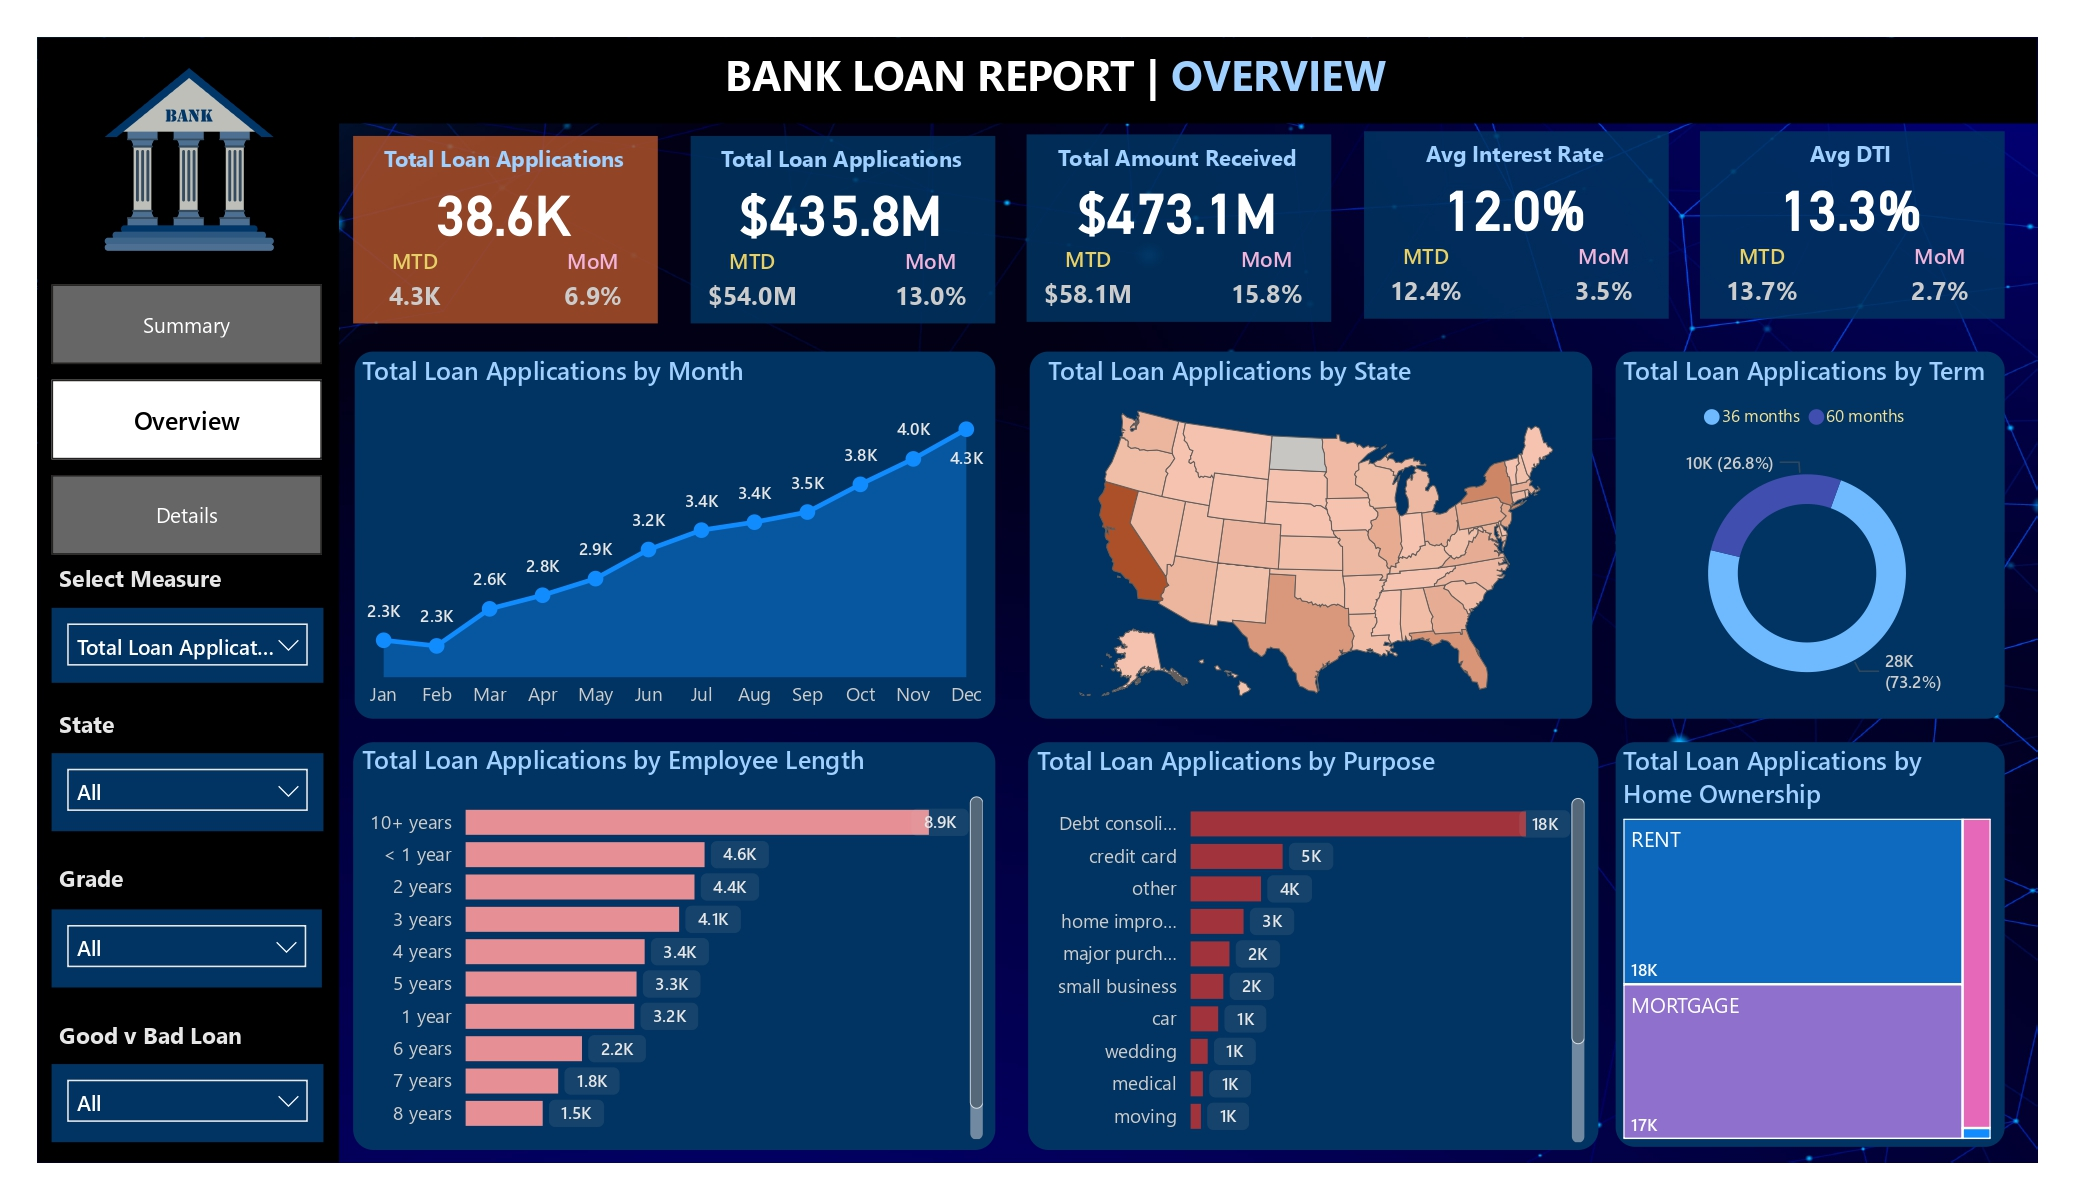

Layout of this report page (visuals, bound fields, positions):
{"tool":"powerbi","page":{"name":"Overview","canvas":[1280,720],"ordinal":1},"visuals":[{"type":"shape","box":[0,45.3,193,674.4],"z":0},{"type":"shape","box":[0,0,1280.3,55],"z":1000},{"type":"textbox","box":[434.6,0,439.5,55.6],"z":2000},{"type":"shape","box":[848.6,60.5,195.1,120],"z":3000,"group":"g4"},{"type":"shape","box":[1064.1,60.5,195.1,120],"z":3000,"group":"g5"},{"type":"shape","box":[633.2,61.6,195.1,120],"z":3000,"group":"g3"},{"type":"group","id":"g1","title":"Group 1","box":[202.3,62.8,195.3,119.8],"z":3000},{"type":"shape","box":[202.4,62.8,195.1,120],"z":3000,"group":"g1"},{"type":"shape","box":[417.8,62.8,195.1,120],"z":3000,"group":"g2"},{"type":"group","id":"g2","title":"Group 1","box":[417.7,62.8,195.3,119.8],"z":4000},{"type":"card","fields":{"Values":["Bank_Loan_data.Average Interest Rate"]},"box":[849.7,78.7,189.4,60],"z":4000,"group":"g4"},{"type":"card","fields":{"Values":["Bank_Loan_data.Avg DTI"]},"box":[1065.2,78.7,189.4,60],"z":4000,"group":"g5"},{"type":"card","fields":{"Values":["Bank_Loan_data.Total Amount Recieved"]},"box":[634.3,79.8,189.4,60],"z":4000,"group":"g3"},{"type":"card","fields":{"Values":["Bank_Loan_data.Total Loan Applications"]},"box":[203.5,81,189.4,60],"z":4000,"group":"g1"},{"type":"card","fields":{"Values":["Bank_Loan_data.Total Funded Amount"]},"box":[418.9,81,189.4,60],"z":4000,"group":"g2"},{"type":"textbox","box":[848.6,60.5,192.6,35.8],"z":5000,"group":"g4"},{"type":"textbox","box":[1064.1,60.5,192.6,35.8],"z":5000,"group":"g5"},{"type":"textbox","box":[633.2,61.6,192.6,35.8],"z":5000,"group":"g3"},{"type":"textbox","box":[202.4,62.8,192.6,35.8],"z":5000,"group":"g1"},{"type":"textbox","box":[417.8,62.8,192.6,35.8],"z":5000,"group":"g2"},{"type":"shape","box":[203.5,201.2,409.3,234.9],"z":5000},{"type":"group","id":"g3","title":"Group 1","box":[633.1,61.6,195.3,119.8],"z":6000},{"type":"card","title":"MTD","fields":{"Values":["Bank_Loan_data.MTD Avg Int Rate"]},"box":[848.5,131.6,78.8,48.2],"z":6000,"group":"g4"},{"type":"card","title":"MTD","fields":{"Values":["Bank_Loan_data.MTD Avg DTI"]},"box":[1064,131.6,78.8,48.2],"z":6000,"group":"g5"},{"type":"card","title":"MTD","fields":{"Values":["Bank_Loan_data.MTD Total Amount Recieved"]},"box":[633.1,132.7,78.8,48.2],"z":6000,"group":"g3"},{"type":"card","title":"MTD","fields":{"Values":["Bank_Loan_data.MTD Loan Applications"]},"box":[202.3,133.9,78.8,48.2],"z":6000,"group":"g1"},{"type":"card","title":"MTD","fields":{"Values":["Bank_Loan_data.MTD Funded Amount"]},"box":[417.7,133.9,78.8,48.2],"z":6000,"group":"g2"},{"type":"group","id":"g4","title":"Group 1","box":[848.5,60.5,195.3,119.8],"z":7000},{"type":"card","title":"MoM","fields":{"Values":["Bank_Loan_data.MoM Avg Int Rate"]},"box":[962.6,131.6,78.8,48.2],"z":7000,"group":"g4"},{"type":"card","title":"MoM","fields":{"Values":["Bank_Loan_data.MoM Avg DTI"]},"box":[1178.1,131.6,78.8,48.2],"z":7000,"group":"g5"},{"type":"card","title":"MoM","fields":{"Values":["Bank_Loan_data.MoM Total Amount Recieved"]},"box":[747.2,132.7,78.8,48.2],"z":7000,"group":"g3"},{"type":"card","title":"MoM","fields":{"Values":["Bank_Loan_data.MoM Loan Application"]},"box":[316.4,133.9,78.8,48.2],"z":7000,"group":"g1"},{"type":"card","title":"MoM","fields":{"Values":["Bank_Loan_data.MoM Total Funded Amount"]},"box":[531.8,133.9,78.8,48.2],"z":7000,"group":"g2"},{"type":"group","id":"g5","title":"Group 1","box":[1064,60.5,195.3,119.8],"z":8000},{"type":"slicer","fields":{"Values":["Bank_Loan_data.address_state"]},"box":[9.3,458.1,173.3,50],"z":9000},{"type":"textbox","box":[9.3,424.4,73.3,33.7],"z":10000},{"type":"slicer","fields":{"Values":["Bank_Loan_data.grade"]},"box":[8.9,557.9,173.1,50.2],"z":11000},{"type":"textbox","box":[8.9,523.3,73.7,33.5],"z":12000},{"type":"slicer","fields":{"Values":["Bank_Loan_data.Good vs Bad Loan"]},"box":[9.3,657,173.3,50],"z":13000},{"type":"textbox","box":[9.3,623.3,145.3,33.7],"z":14000},{"type":"areaChart","fields":{"Y":["Bank_Loan_data.Total Loan Applications"],"Category":["Date Table.Month"]},"box":[203.5,202.3,409.3,236],"z":15000},{"type":"slicer","fields":{"Values":["Select Measure.Select Measure"]},"box":[9.3,365.1,173.3,47.7],"z":16000},{"type":"textbox","box":[9.3,331.4,122.1,33.7],"z":17000},{"type":"shape","box":[634.9,201.2,360,235],"z":18000},{"type":"shapeMap","fields":{"Value":["Bank_Loan_data.Total Loan Applications"],"Category":["Bank_Loan_data.address_state"]},"box":[641.9,202.3,353.5,233.7],"z":19000},{"type":"shape","box":[1010.5,201.2,248.8,234.9],"z":20000},{"type":"donutChart","fields":{"Y":["Bank_Loan_data.Total Loan Applications"],"Category":["Bank_Loan_data.term"]},"box":[1010.5,202.3,244.2,233.7],"z":21000},{"type":"shape","box":[202.3,451.2,410.5,260.5],"z":22000},{"type":"barChart","fields":{"Y":["Bank_Loan_data.Total Loan Applications"],"Category":["Bank_Loan_data.emp_length"]},"box":[203.5,451.2,407,259.3],"z":23000},{"type":"shape","box":[633.7,451.2,365.1,260.5],"z":24000},{"type":"barChart","fields":{"Y":["Bank_Loan_data.Total Loan Applications"],"Category":["Bank_Loan_data.purpose"]},"box":[634.9,452.3,360.5,259.3],"z":25000},{"type":"shape","box":[1010.5,451.2,248.8,259.3],"z":26000},{"type":"treemap","fields":{"Values":["Bank_Loan_data.Total Loan Applications"],"Group":["Bank_Loan_data.home_ownership"]},"box":[1010.5,452.3,244.2,258.1],"z":27000},{"type":"pageNavigator","box":[9,158,173,174],"z":28000},{"type":"image","box":[0,0,193,155.8],"z":29000}]}

Visuals, with their boxes on the page's 1280x720 design canvas (x1, y1, x2, y2). These are canvas units, not pixel positions in the 2075x1200 screenshot, which may show the page scaled, cropped or inside an application window:
shape: [0, 45, 193, 720]
shape: [0, 0, 1280, 55]
textbox: [435, 0, 874, 56]
shape: [849, 60, 1044, 180]
shape: [1064, 60, 1259, 180]
shape: [633, 62, 828, 182]
"Group 1" group: [202, 63, 398, 183]
shape: [202, 63, 398, 183]
shape: [418, 63, 613, 183]
"Group 1" group: [418, 63, 613, 183]
card - Bank_Loan_data.Average Interest Rate: [850, 79, 1039, 139]
card - Bank_Loan_data.Avg DTI: [1065, 79, 1255, 139]
card - Bank_Loan_data.Total Amount Recieved: [634, 80, 824, 140]
card - Bank_Loan_data.Total Loan Applications: [204, 81, 393, 141]
card - Bank_Loan_data.Total Funded Amount: [419, 81, 608, 141]
textbox: [849, 60, 1041, 96]
textbox: [1064, 60, 1257, 96]
textbox: [633, 62, 826, 97]
textbox: [202, 63, 395, 99]
textbox: [418, 63, 610, 99]
shape: [204, 201, 613, 436]
"Group 1" group: [633, 62, 828, 181]
"MTD" card: [848, 132, 927, 180]
"MTD" card: [1064, 132, 1143, 180]
"MTD" card: [633, 133, 712, 181]
"MTD" card: [202, 134, 281, 182]
"MTD" card: [418, 134, 496, 182]
"Group 1" group: [848, 60, 1044, 180]
"MoM" card: [963, 132, 1041, 180]
"MoM" card: [1178, 132, 1257, 180]
"MoM" card: [747, 133, 826, 181]
"MoM" card: [316, 134, 395, 182]
"MoM" card: [532, 134, 611, 182]
"Group 1" group: [1064, 60, 1259, 180]
slicer - Bank_Loan_data.address_state: [9, 458, 183, 508]
textbox: [9, 424, 83, 458]
slicer - Bank_Loan_data.grade: [9, 558, 182, 608]
textbox: [9, 523, 83, 557]
slicer - Bank_Loan_data.Good vs Bad Loan: [9, 657, 183, 707]
textbox: [9, 623, 155, 657]
areaChart - Bank_Loan_data.Total Loan Applications x Date Table.Month: [204, 202, 613, 438]
slicer - Select Measure.Select Measure: [9, 365, 183, 413]
textbox: [9, 331, 131, 365]
shape: [635, 201, 995, 436]
shapeMap - Bank_Loan_data.Total Loan Applications x Bank_Loan_data.address_state: [642, 202, 995, 436]
shape: [1010, 201, 1259, 436]
donutChart - Bank_Loan_data.Total Loan Applications x Bank_Loan_data.term: [1010, 202, 1255, 436]
shape: [202, 451, 613, 712]
barChart - Bank_Loan_data.Total Loan Applications x Bank_Loan_data.emp_length: [204, 451, 610, 710]
shape: [634, 451, 999, 712]
barChart - Bank_Loan_data.Total Loan Applications x Bank_Loan_data.purpose: [635, 452, 995, 712]
shape: [1010, 451, 1259, 710]
treemap - Bank_Loan_data.Total Loan Applications x Bank_Loan_data.home_ownership: [1010, 452, 1255, 710]
pageNavigator: [9, 158, 182, 332]
image: [0, 0, 193, 156]
